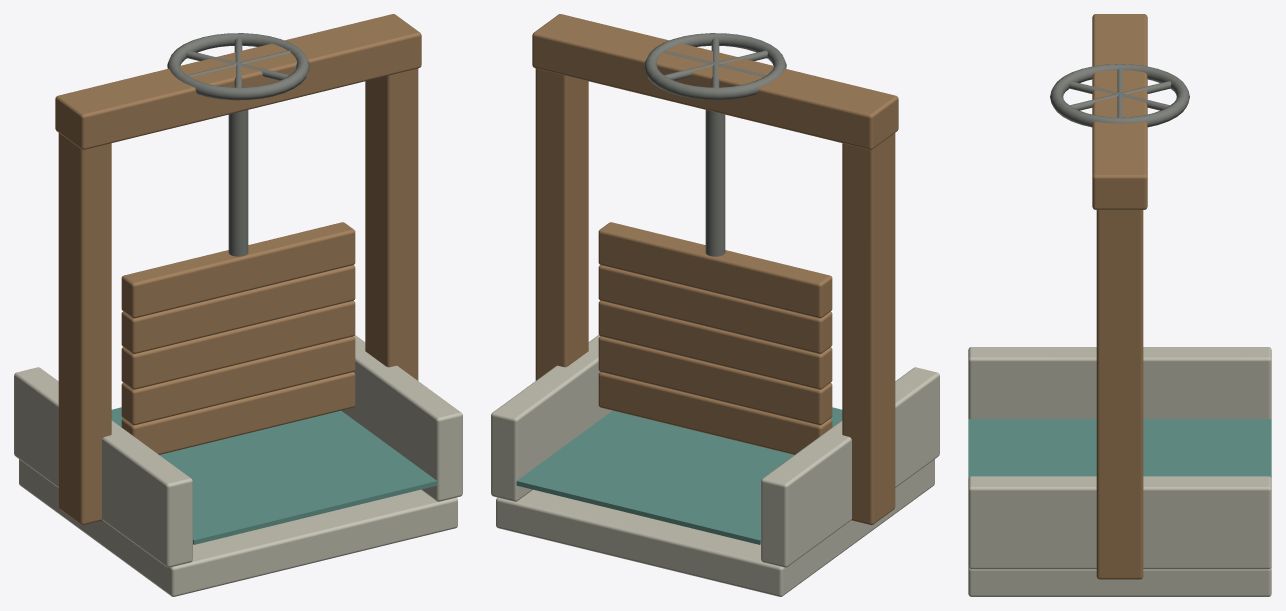
Rendered from water-control-sluice.glb.
3 renders of one model, left to right at view 1: azimuth 30°, elevation 25°; view 2: azimuth 150°, elevation 25°; view 3: azimuth 270°, elevation 25°, orthographic.
Visible parts, largest first — view 1: water-control-sluice; view 2: water-control-sluice; view 3: water-control-sluice.
Part boxes in pixels (box(x1,y1,x2,y2)): water-control-sluice: box(14, 14, 462, 596); water-control-sluice: box(491, 14, 939, 596); water-control-sluice: box(968, 14, 1271, 596).
Size of the model in its own units: 1.4 by 1.75 by 1.1.
